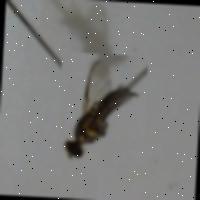Oriental-fruit-fly: (55, 51, 148, 170)
